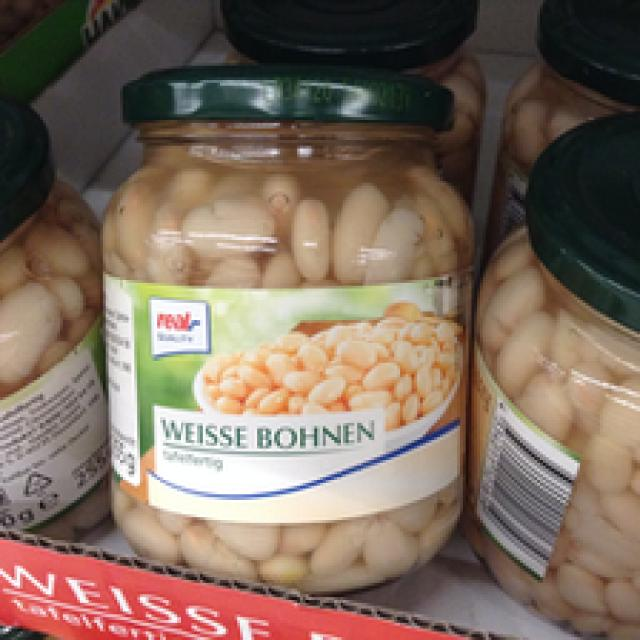groceries: (103, 51, 471, 588), (483, 91, 637, 603)
